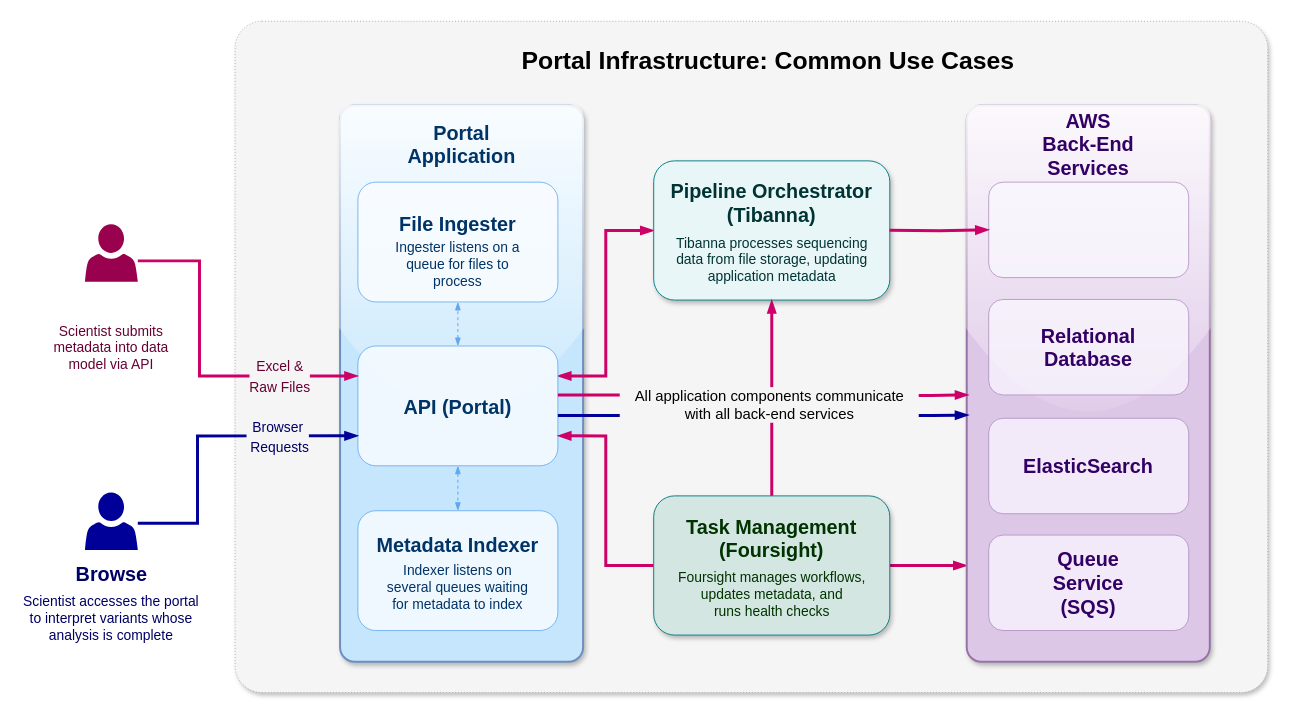
Some shapes in this 1291 by 717 pixel diagram are drawn without their labels. Each missing label, with the centre of its shape:
File Storage (S3): the point at 1088,229
Submit: the point at 110,252
